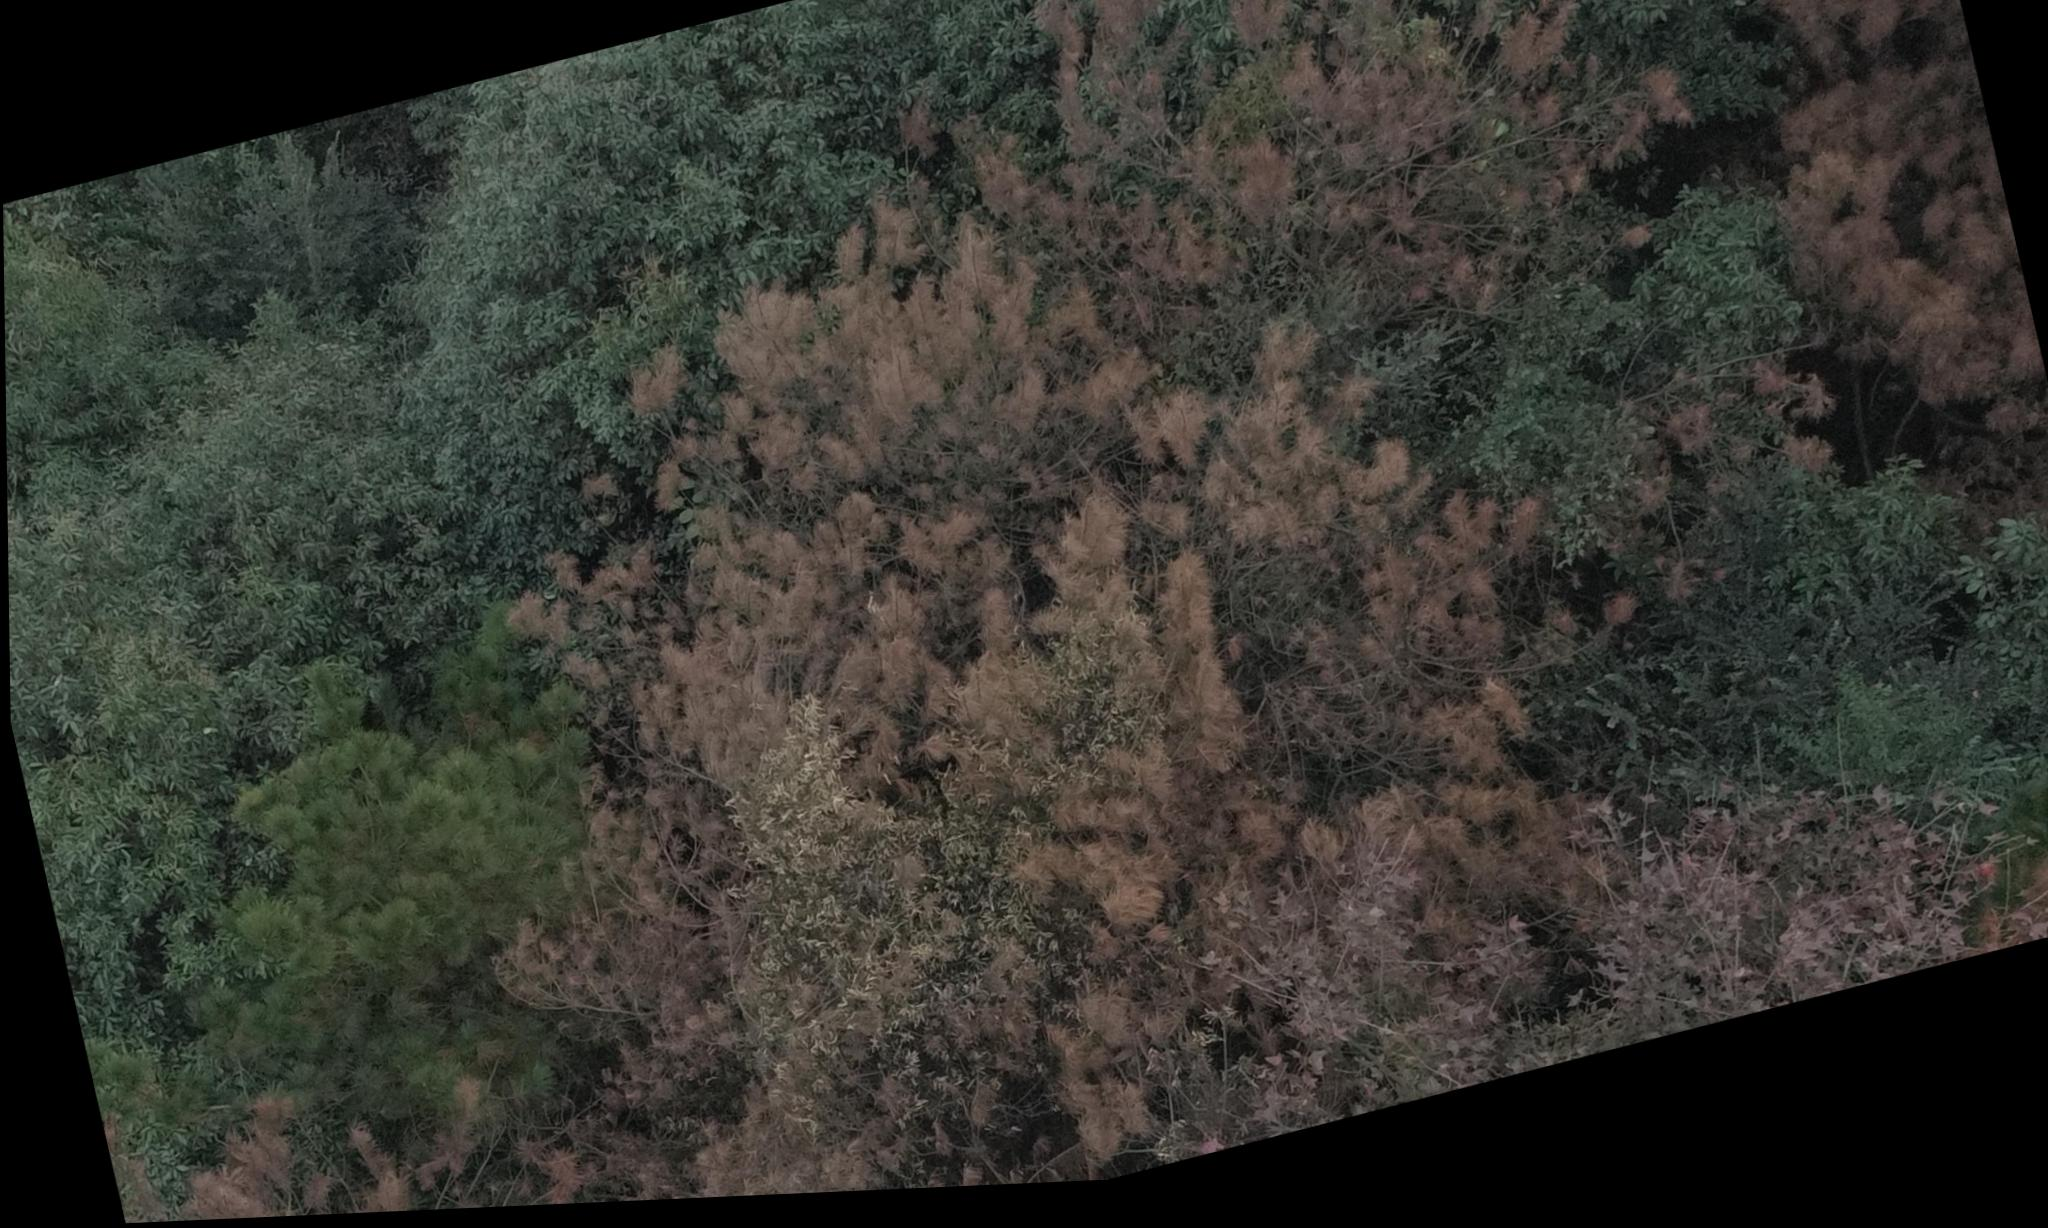heavy: (880, 256, 1750, 1000), (485, 205, 1241, 816), (1006, 0, 1659, 348), (1697, 0, 2047, 466)
